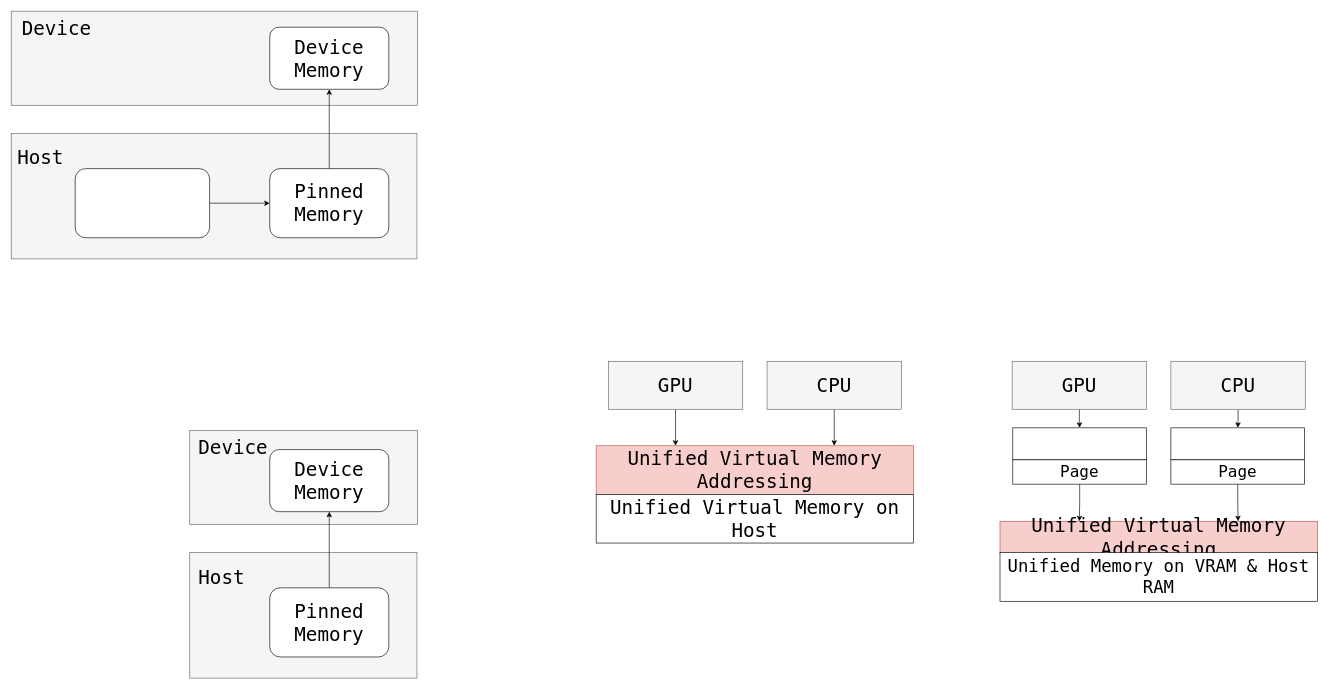
Image size: 1329x689. Some labels were removed from this diagram. Here are the shapes that lost their labels. From the top down, the box of each, then its label:
(75, 168, 210, 238): Pageable Memory
(1012, 427, 1147, 460): VRAM
(1170, 427, 1305, 460): RAM
